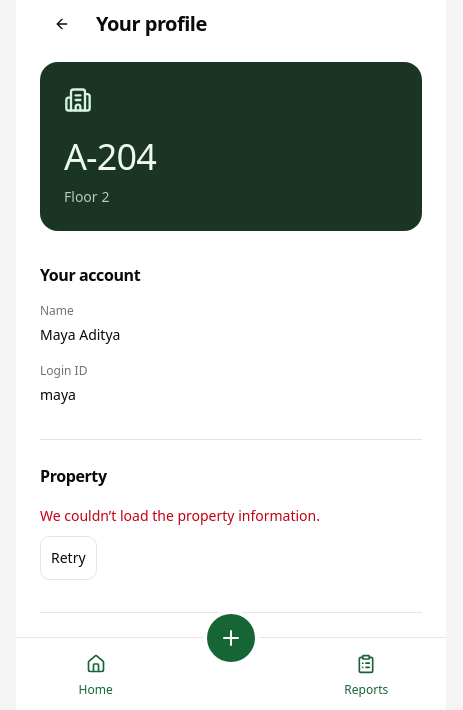
Test: keeps an initial property error distinct and retries that section
This screenshot has width=463, height=710.
Check: the message shows "couldn’t load", box x1=40 y1=506 x2=320 y2=525
Check: the text "maya" is shown, box x1=40 y1=385 x2=76 y2=404
What coordinates should you click on to do the following:
click the button "Retry"
I would click on:
 (68, 558)
Its box is x1=40 y1=536 x2=97 y2=580.
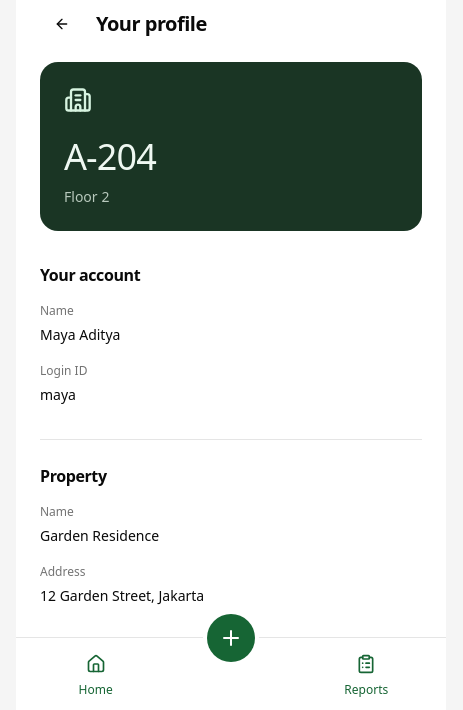
Check: the message "We couldn’t load the property information." is gone
Check: the text "12 Garden Street, Jakarta" is shown, box x1=40 y1=586 x2=204 y2=605
